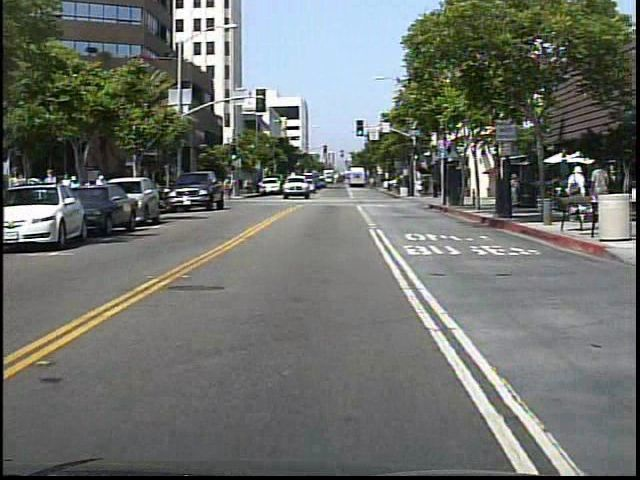person: (8, 162, 32, 223), (508, 169, 520, 213), (225, 173, 237, 200), (414, 178, 425, 200)
